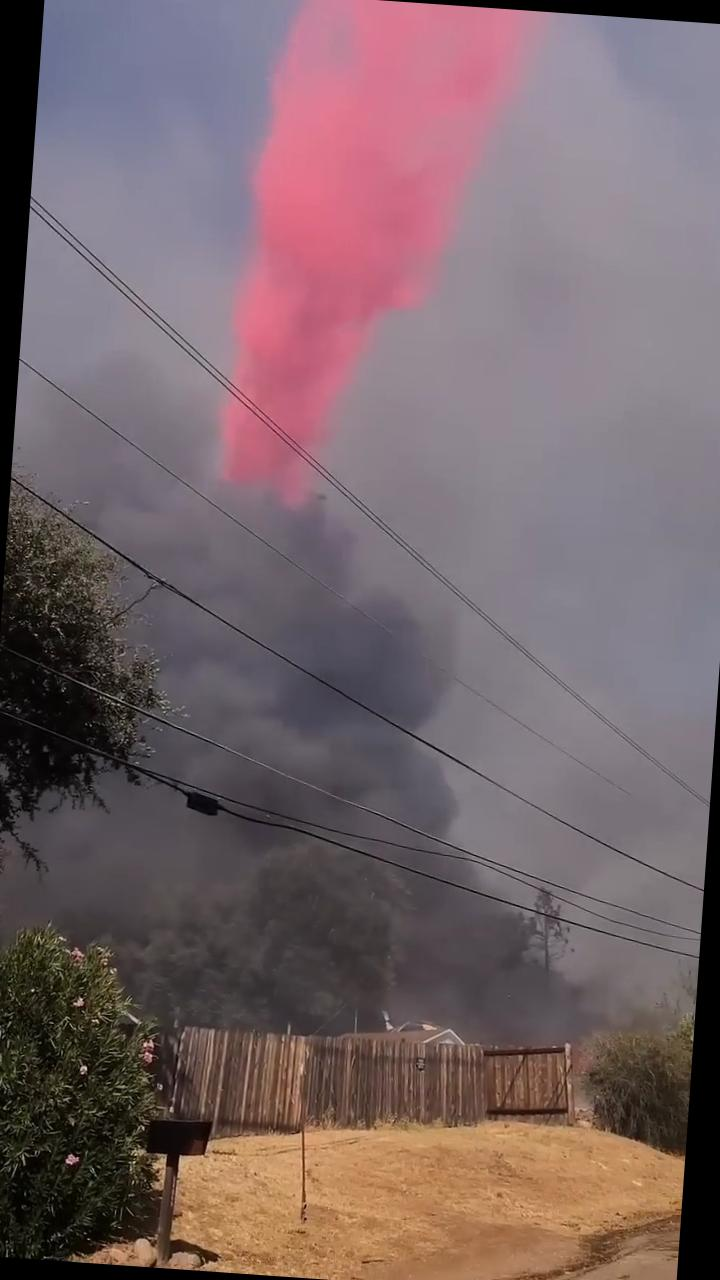Smoke: (41, 397, 667, 1050)
